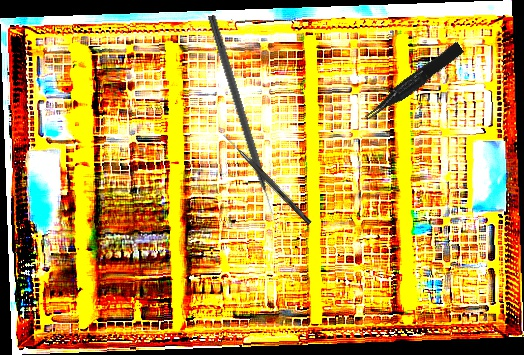Hook Surgical: (205, 14, 280, 225), (221, 133, 313, 225)
Tissue Forceps: (359, 41, 467, 123)
